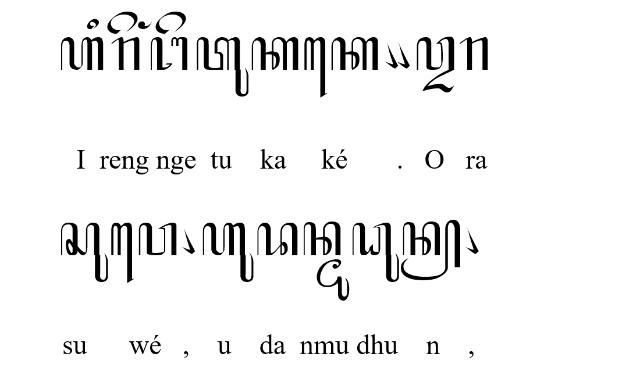-n: (401, 219, 461, 281)
O: (416, 37, 454, 94)
_mu: (316, 258, 350, 302)
d: (256, 222, 298, 256)
dhu: (352, 222, 400, 282)
e: (156, 10, 187, 34), (108, 12, 138, 34)
e1: (110, 222, 134, 284), (304, 36, 326, 98)
h: (60, 36, 104, 70)
hu: (202, 223, 254, 282)
i: (87, 18, 99, 30)
k: (251, 36, 299, 72), (331, 38, 379, 70)
kom: (465, 227, 479, 254), (396, 42, 409, 68), (183, 227, 195, 254), (386, 43, 398, 69)
n: (303, 222, 342, 256)
ng: (138, 21, 152, 29)
nga: (150, 36, 188, 70)
r: (459, 37, 488, 71), (112, 36, 140, 70)
su: (60, 222, 108, 282)
tu: (196, 36, 248, 98)
w: (138, 222, 178, 256)
